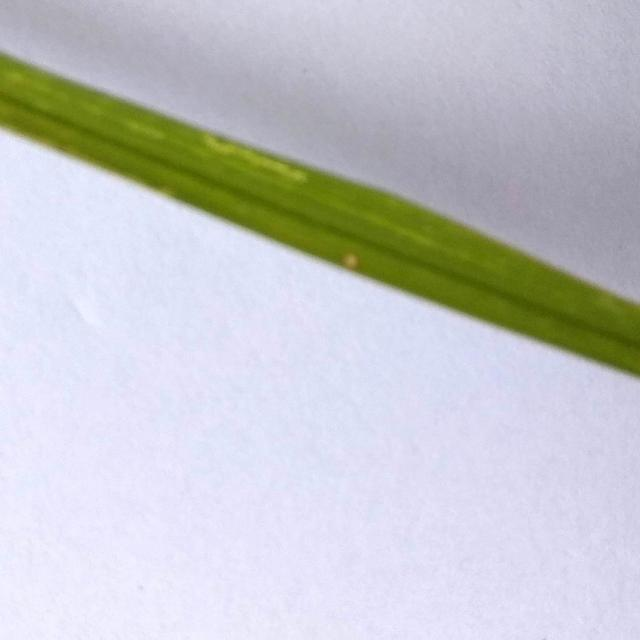Blast: (340, 244, 363, 268)
